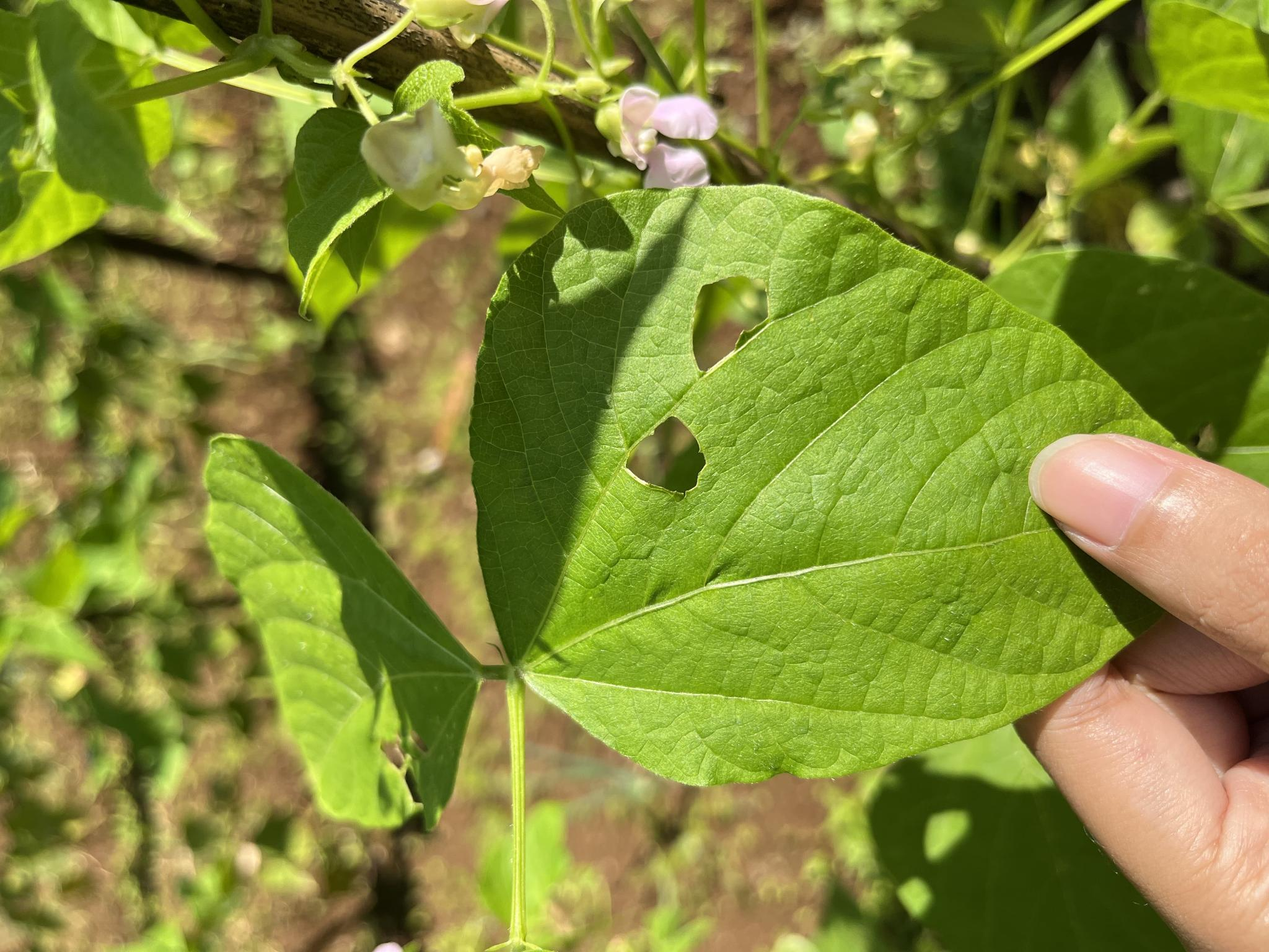mozaik: (688, 272, 776, 373), (614, 407, 711, 488)
